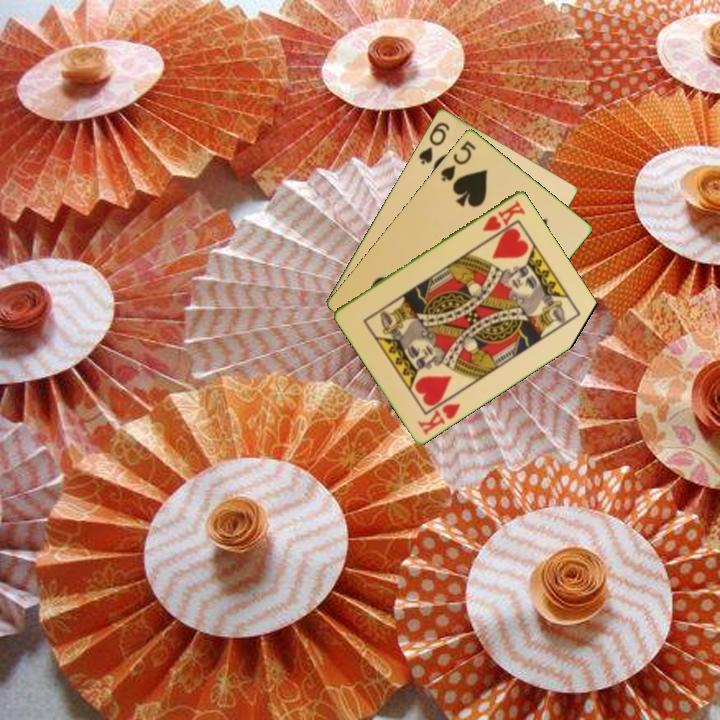5s: (437, 137, 479, 184)
6s: (415, 118, 453, 167)
Kh: (479, 196, 528, 234), (414, 399, 463, 437)
